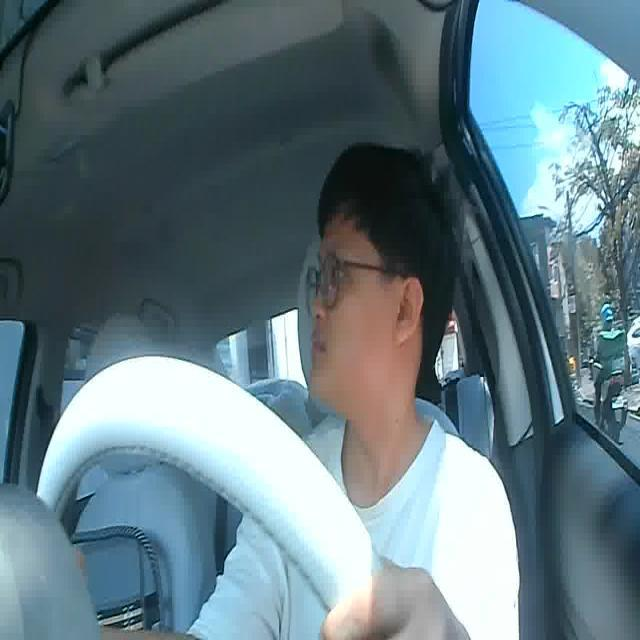Eye-Open: (319, 264, 347, 284)
Inattentive: (306, 144, 460, 417)
Normal: (312, 334, 326, 358)
